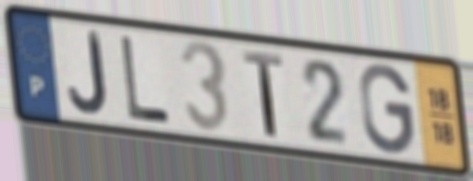2: (300, 57, 352, 148)
3: (177, 38, 232, 137)
G: (357, 61, 417, 157)
J: (66, 29, 110, 118)
L: (117, 32, 174, 127)
T: (240, 47, 285, 141)
